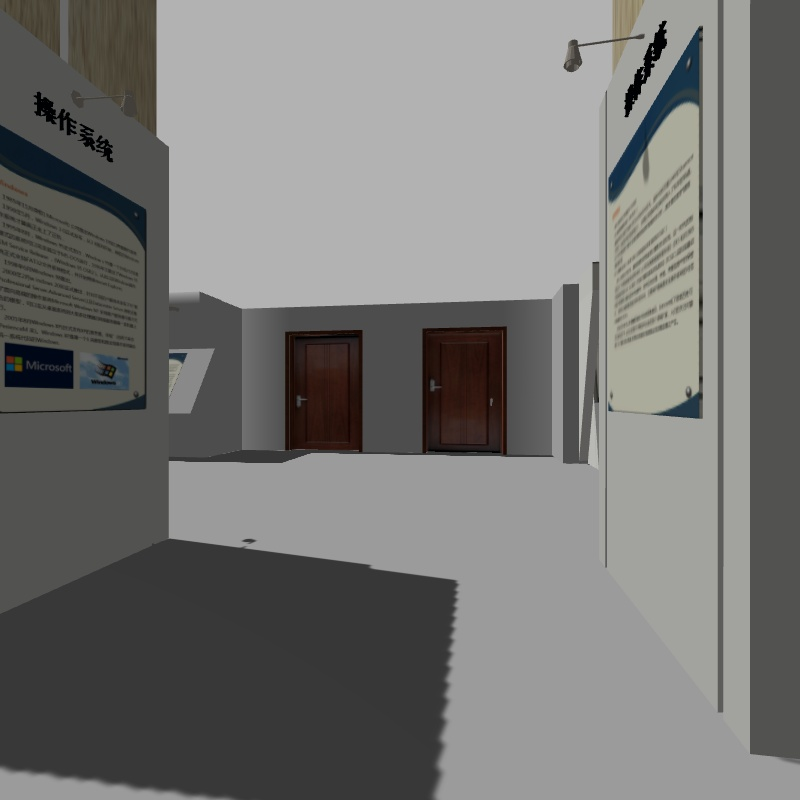handle: (289, 388, 307, 410), (424, 374, 443, 393)
